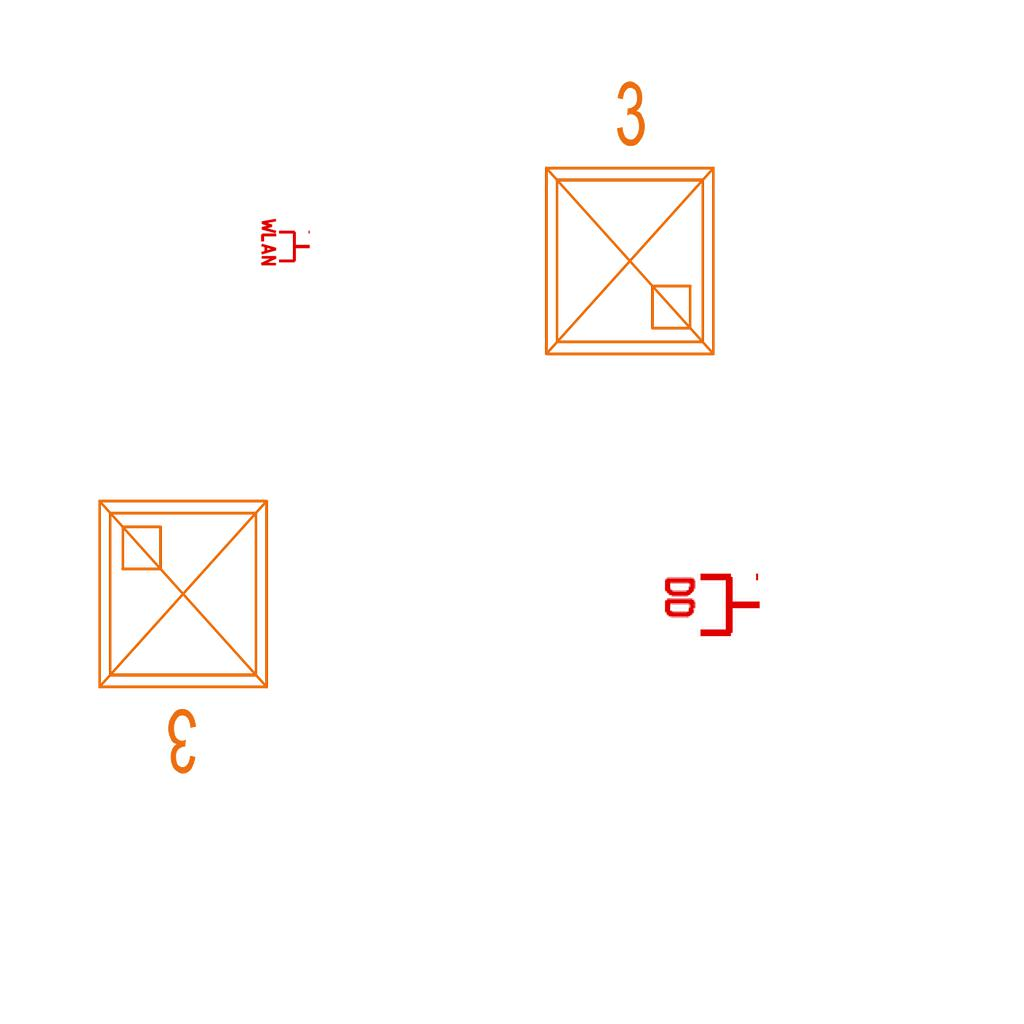Datenanschluss_zweifach: (660, 572, 763, 641)
Einbaudownlights_LED_Konferenzraeume: (522, 70, 730, 370), (83, 485, 291, 785)
WLAN: (260, 216, 312, 268)
